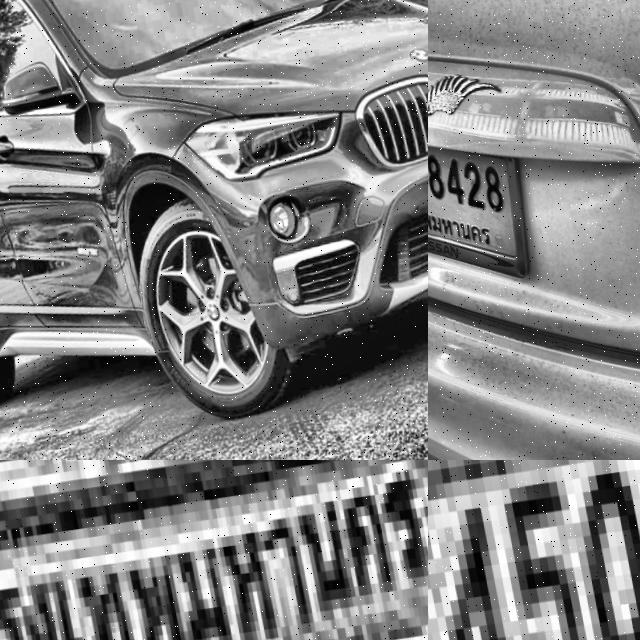license-plate: (0, 460, 428, 640), (428, 460, 640, 640), (428, 102, 532, 300)
